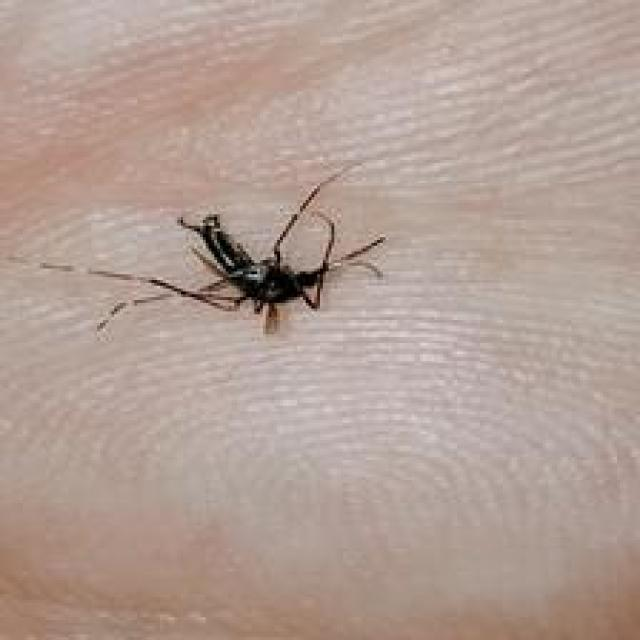Aedes albopictus: (34, 157, 389, 340)
